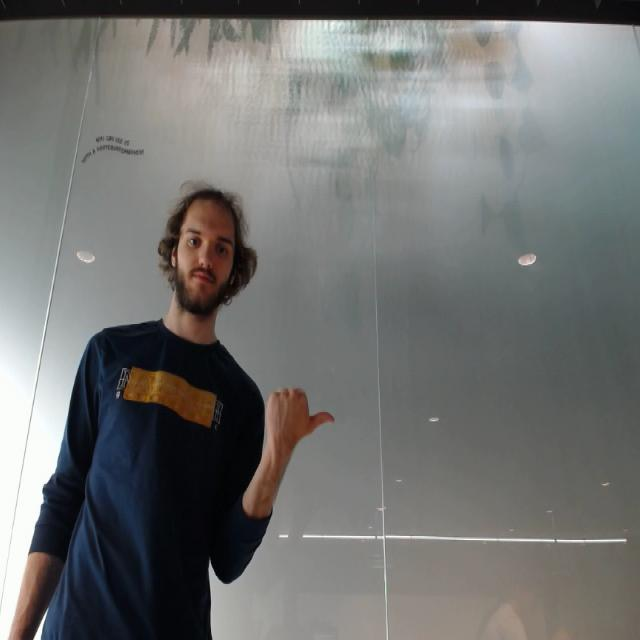right: (261, 386, 343, 452)
